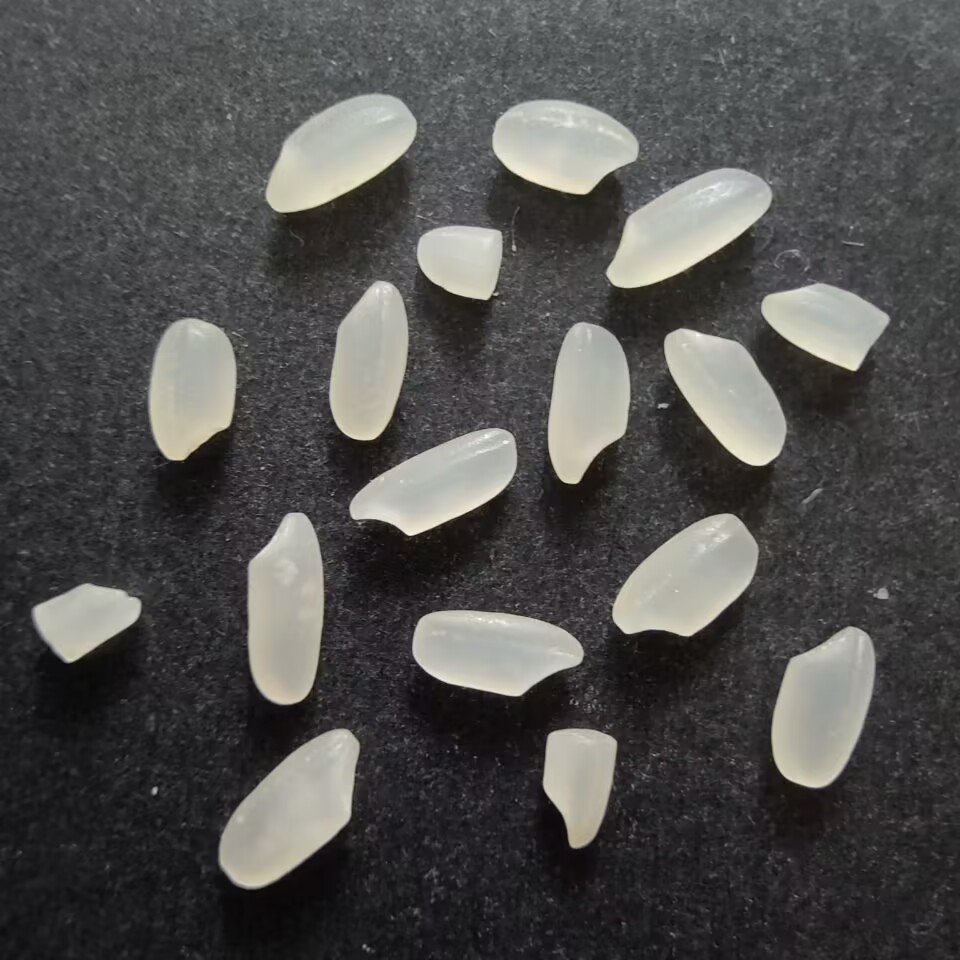broken: (759, 277, 890, 375), (532, 722, 623, 852), (28, 578, 148, 673), (412, 220, 507, 304)
rice: (214, 722, 364, 896), (602, 165, 777, 289), (345, 424, 522, 540), (258, 92, 418, 216), (610, 509, 760, 641), (660, 323, 790, 470), (768, 621, 877, 792), (241, 506, 327, 711), (407, 606, 587, 700), (489, 96, 645, 197), (544, 319, 636, 488), (326, 278, 412, 446), (146, 313, 239, 467)
